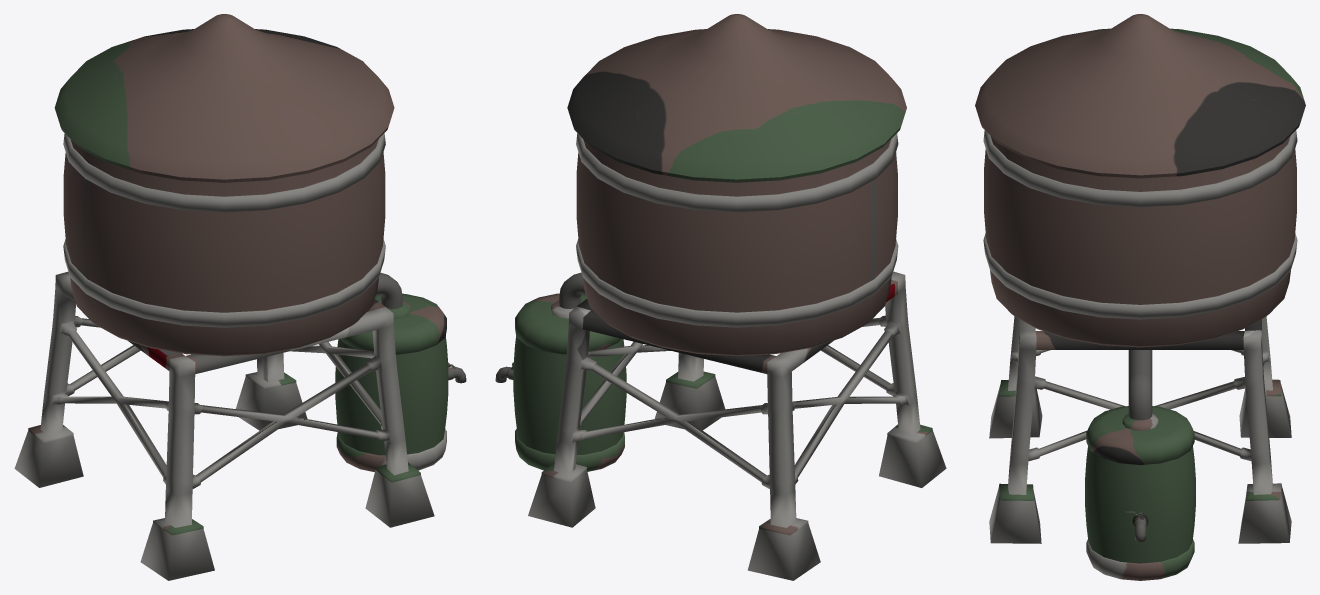
The model's file is Watertankspp.fbx.
The picture shows the model from 3 angles, left to right: view 1: azimuth 30°, elevation 25°; view 2: azimuth 150°, elevation 25°; view 3: azimuth 270°, elevation 25°; orthographic projection. The views are drawn at different scales.
Visible parts, largest first — view 1: LargeWater, SmallWaterTank, PipeBendST; view 2: LargeWater, SmallWaterTank, PipeBendST; view 3: LargeWater, SmallWaterTank, PipeBendST, StraightPipe.
Boxes of the visible parts, x1,y1,x2,y2 form: LargeWater: [14, 14, 434, 580]; SmallWaterTank: [335, 293, 466, 472]; PipeBendST: [376, 272, 402, 309]; LargeWater: [528, 14, 946, 580]; SmallWaterTank: [495, 293, 626, 471]; PipeBendST: [559, 272, 585, 308]; LargeWater: [975, 14, 1305, 543]; SmallWaterTank: [1085, 406, 1195, 580]; PipeBendST: [1128, 374, 1152, 420]; StraightPipe: [1128, 350, 1152, 382].
Size of the model in its own units: 497 by 583 by 376.
